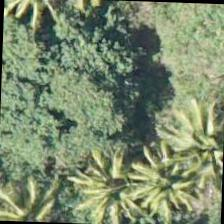Kelapa_Sawit: (153, 139, 223, 223), (164, 85, 223, 179)
